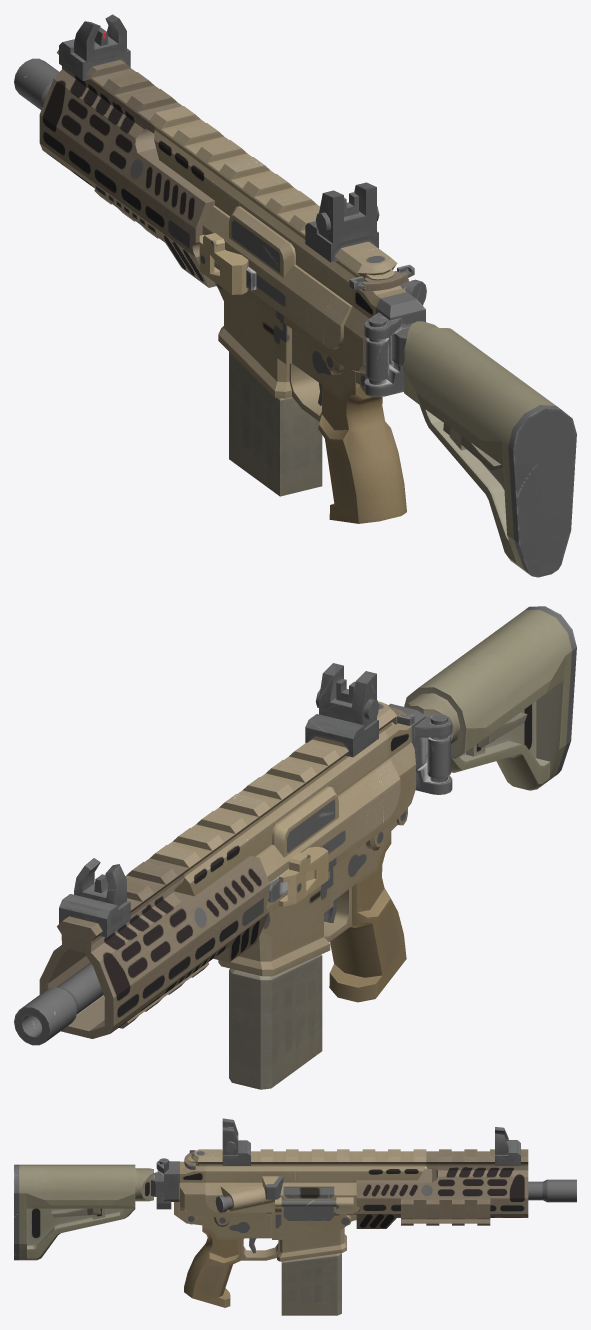
The model's file is IG_Gun_MCXSpear.fbx.
3 views of the same model, one above another, from view 1: azimuth 30°, elevation 25°; view 2: azimuth 150°, elevation 25°; view 3: azimuth 270°, elevation 25° (orthographic). The views are drawn at different scales.
Parts seen in each view (by area): view 1: WPN_MCXSpear, HideIf_Stock, HideIf_Scope, HideIf_Muzzle; view 2: WPN_MCXSpear, HideIf_Stock, HideIf_Scope, HideIf_Muzzle; view 3: WPN_MCXSpear, HideIf_Stock, ShowIf_Tec, HideIf_Scope, HideIf_Muzzle.
Part boxes in pixels (left/top/right/bottom): WPN_MCXSpear: left=39, top=50, right=426, bottom=523; HideIf_Stock: left=364, top=292, right=576, bottom=577; HideIf_Scope: left=59, top=14, right=379, bottom=262; HideIf_Muzzle: left=14, top=58, right=58, bottom=109; WPN_MCXSpear: left=39, top=701, right=415, bottom=1089; HideIf_Stock: left=388, top=606, right=576, bottom=794; HideIf_Scope: left=59, top=663, right=379, bottom=937; HideIf_Muzzle: left=14, top=987, right=77, bottom=1045; WPN_MCXSpear: left=180, top=1149, right=542, bottom=1315; HideIf_Stock: left=14, top=1158, right=179, bottom=1260; ShowIf_Tec: left=401, top=1198, right=490, bottom=1219; HideIf_Scope: left=222, top=1118, right=520, bottom=1165; HideIf_Muzzle: left=542, top=1179, right=576, bottom=1202.
Bounding box in the file's own units: 0.1802 × 0.4822 × 1.32.
